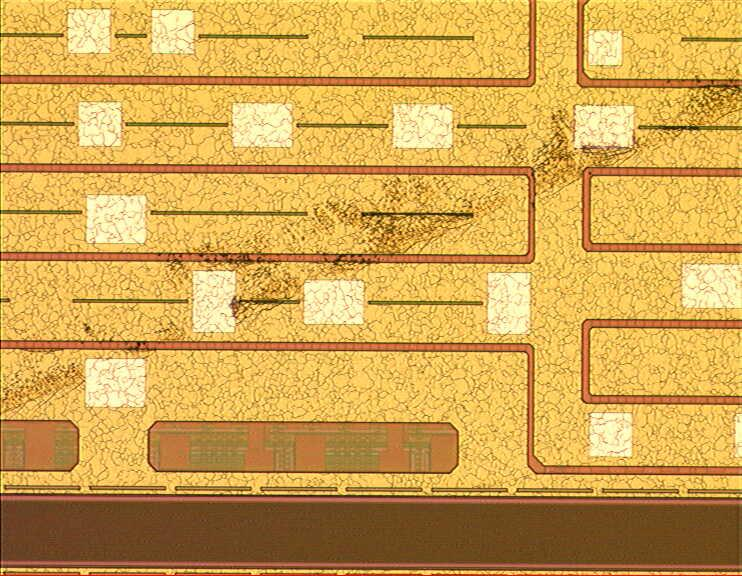SCRATCH: (1, 43, 742, 430)
